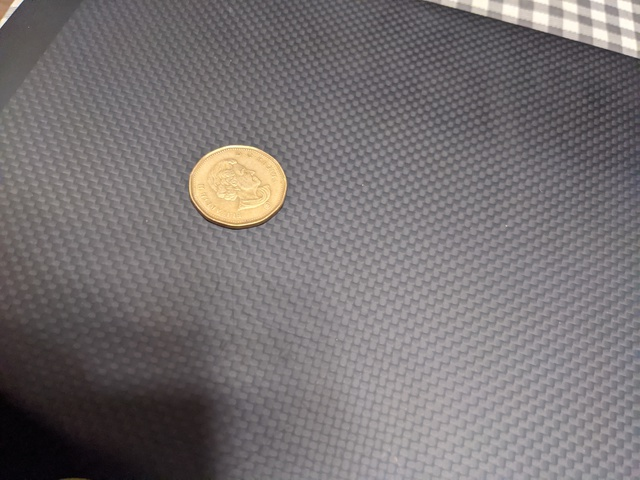loonie: (181, 138, 297, 232)
